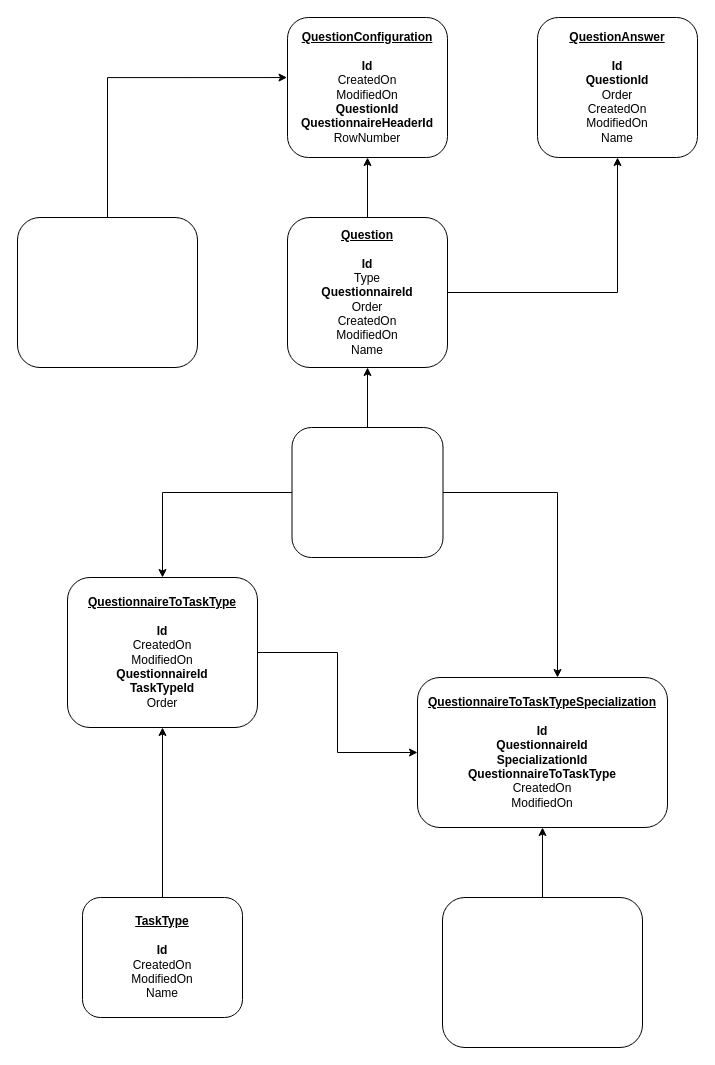
This 715x1065 diagram has some shape labels left out. Each missing label, with the box of its shape:
Questionnaire Id CreatedOn ModifiedOn Name: (291, 426, 443, 558)
QuestionnaireHeader Id CreatedOn ModifiedOn Name Visible Position: (16, 216, 198, 368)
Specialization Id CreatedOn ModifiedOn Name TargetId GroupName ExternalId: (442, 896, 642, 1048)
